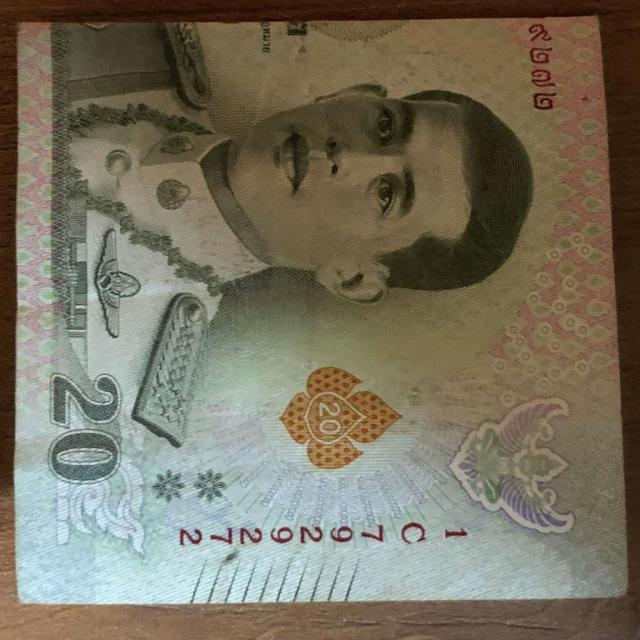THAI20: (12, 16, 628, 607)
